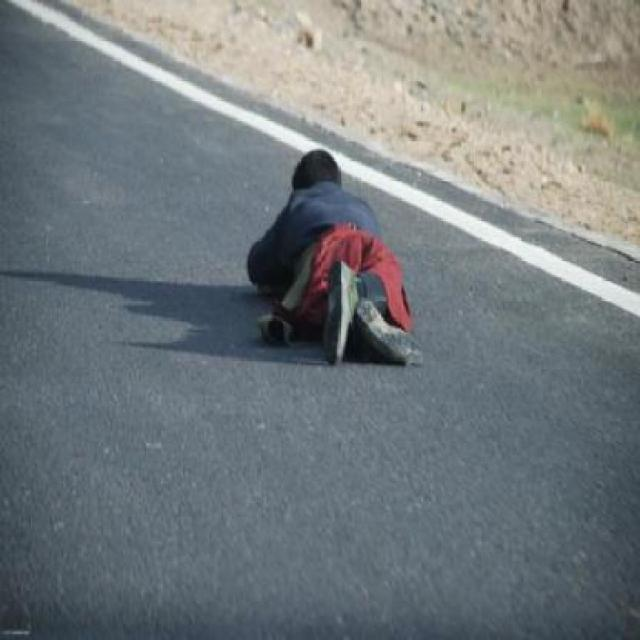fall: (231, 135, 424, 371)
